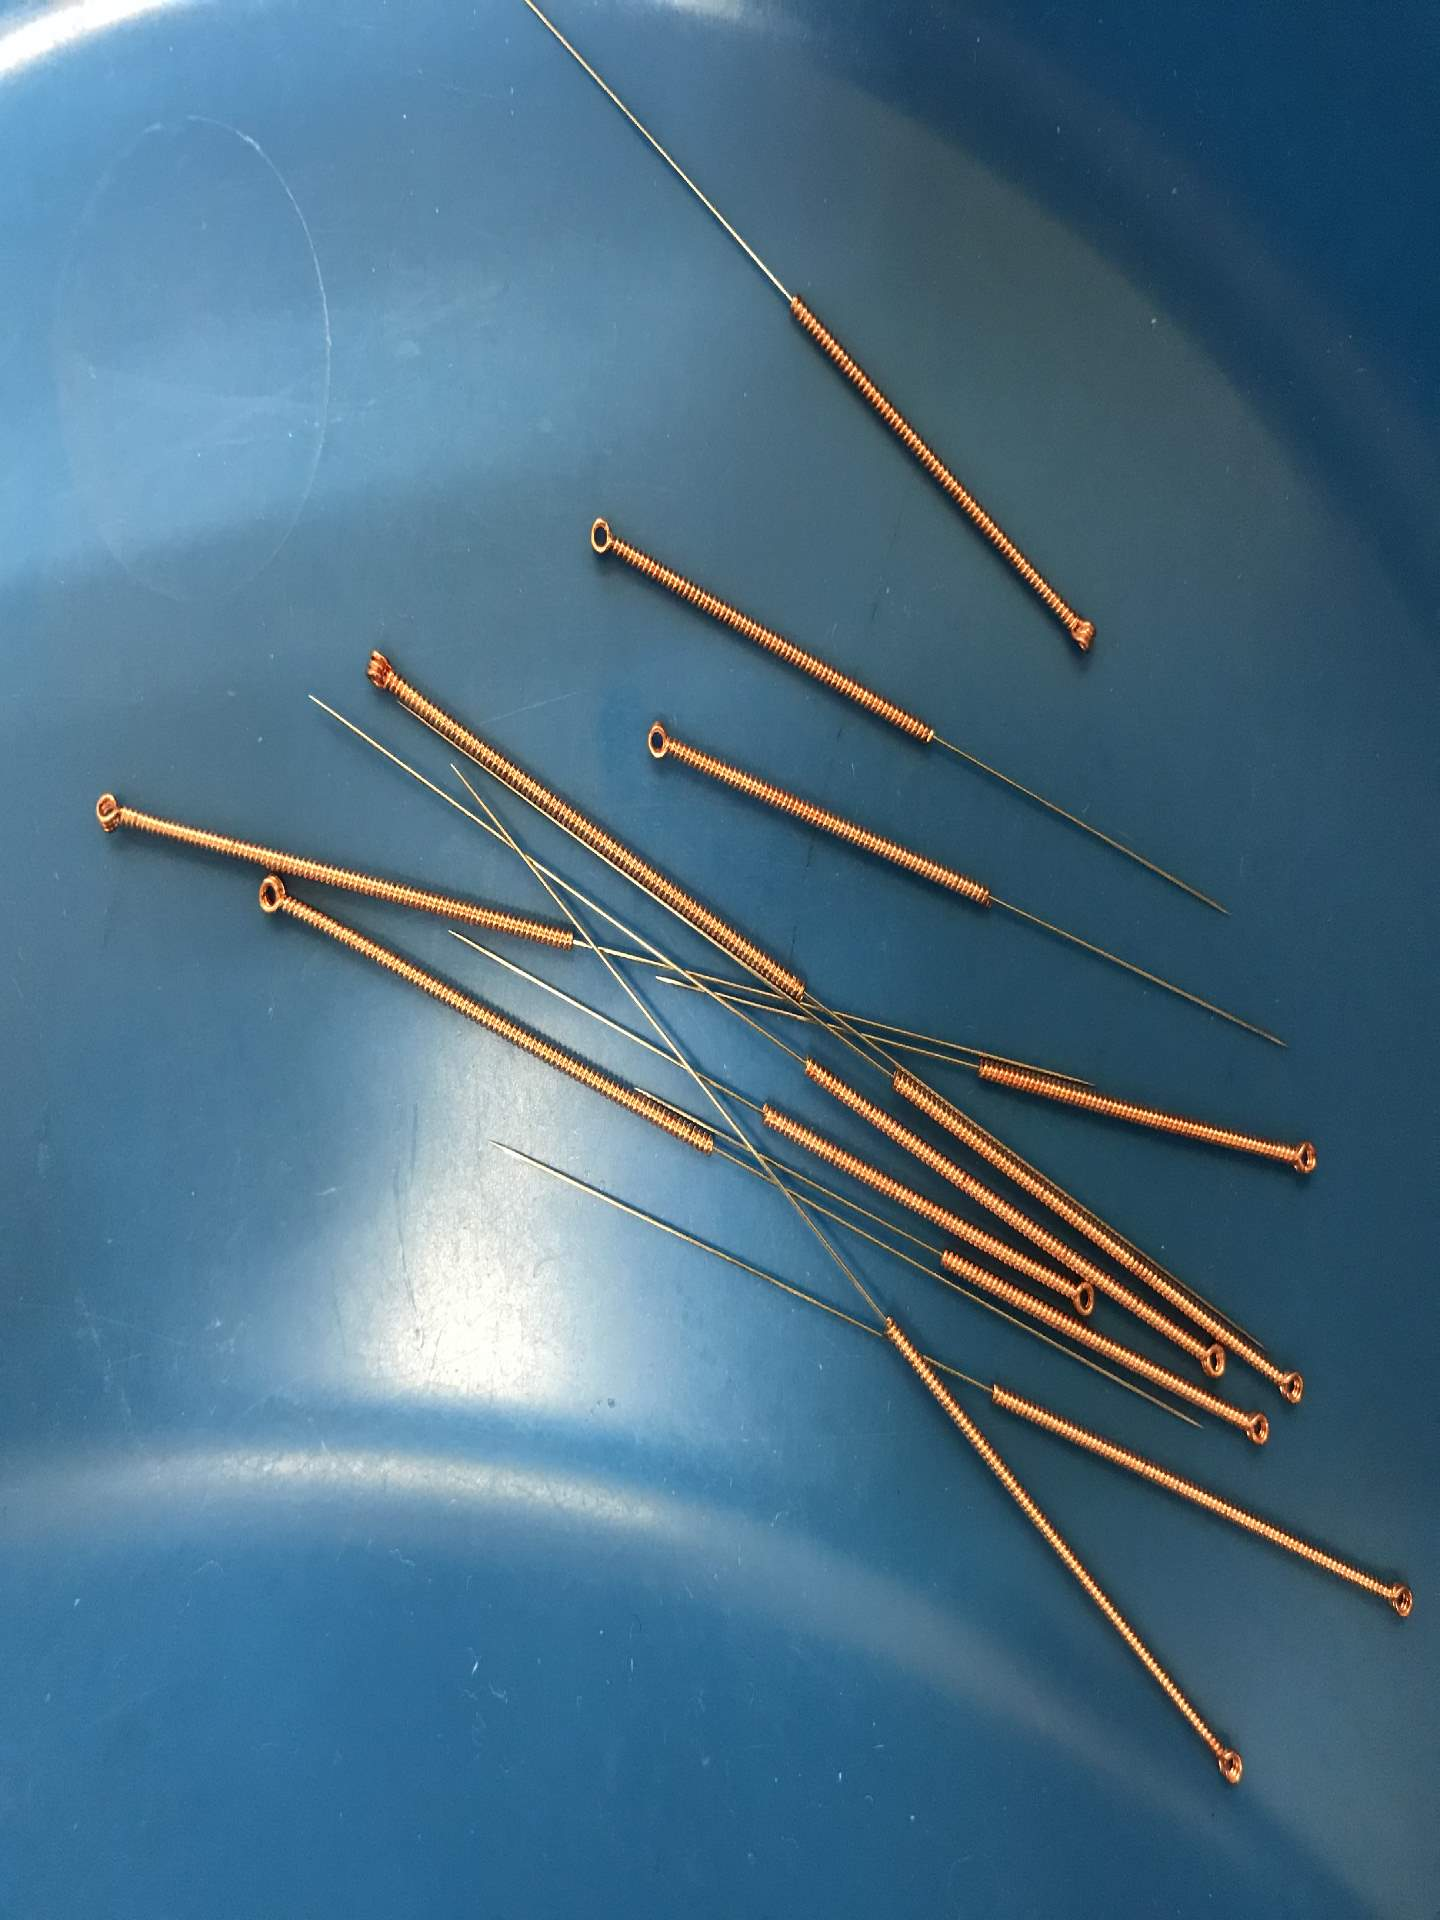needle: (73, 773, 150, 853), (349, 636, 417, 708), (1048, 599, 1112, 671), (239, 866, 307, 933), (570, 503, 634, 571), (631, 711, 691, 776), (1366, 1562, 1423, 1628), (1272, 1125, 1328, 1188), (1196, 1734, 1255, 1793), (1228, 1400, 1280, 1456), (1263, 1352, 1311, 1409), (1178, 1336, 1230, 1385), (1057, 1274, 1101, 1318)
